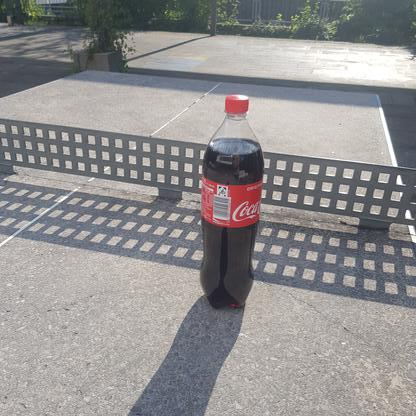coca-cola: (199, 92, 265, 314)
